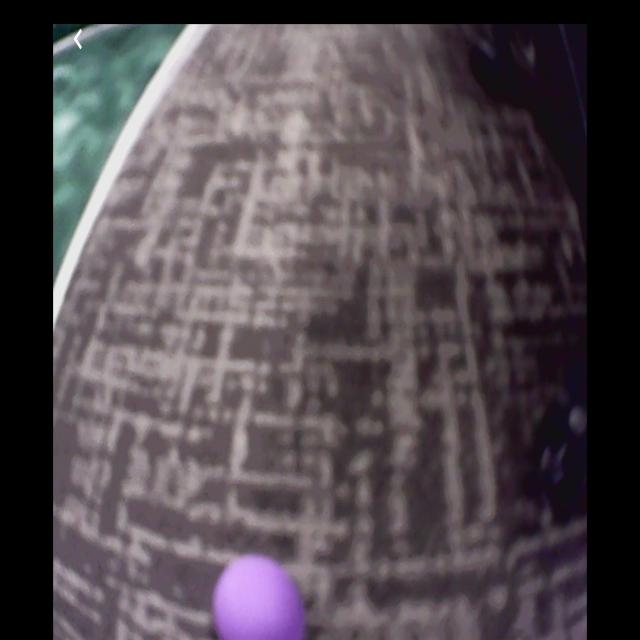ball: (213, 554, 309, 638)
